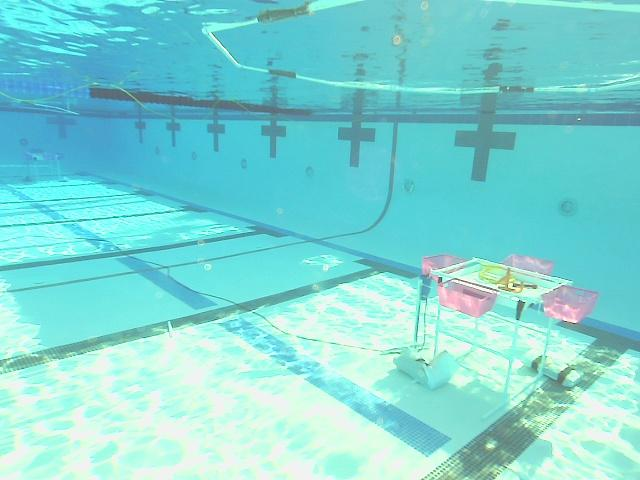table: (397, 253, 597, 420)
